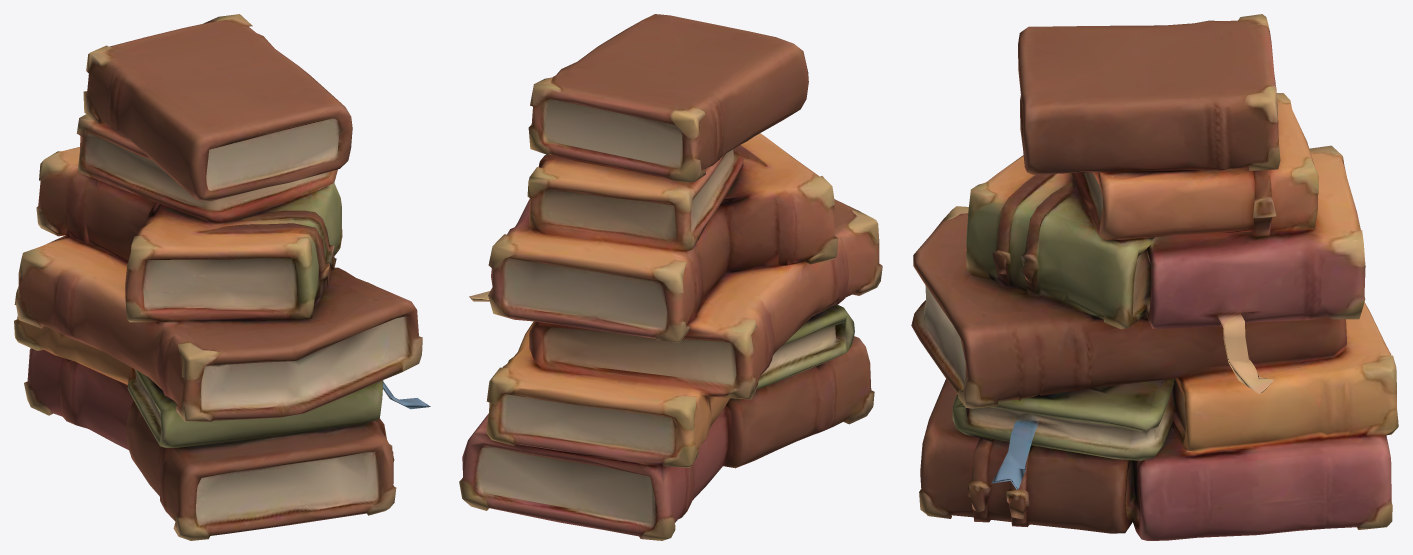
The model's file is book_pile.glb.
3 views of the same model, side by side, from view 1: azimuth 30°, elevation 25°; view 2: azimuth 150°, elevation 25°; view 3: azimuth 270°, elevation 25° (orthographic). The views are drawn at different scales.
Visible parts, largest first — view 1: tripo_node_531a3d5e-c078-4252-b105-45c2a50a886f; view 2: tripo_node_531a3d5e-c078-4252-b105-45c2a50a886f; view 3: tripo_node_531a3d5e-c078-4252-b105-45c2a50a886f.
Part boxes in pixels (x1=…): tripo_node_531a3d5e-c078-4252-b105-45c2a50a886f: x1=14, y1=14, x2=430, y2=540; tripo_node_531a3d5e-c078-4252-b105-45c2a50a886f: x1=459, y1=14, x2=882, y2=540; tripo_node_531a3d5e-c078-4252-b105-45c2a50a886f: x1=911, y1=14, x2=1398, y2=540.
Bounding box in the file's own units: 0.2768 × 0.35 × 0.363.
Materials: 1 (1 with a texture image).
